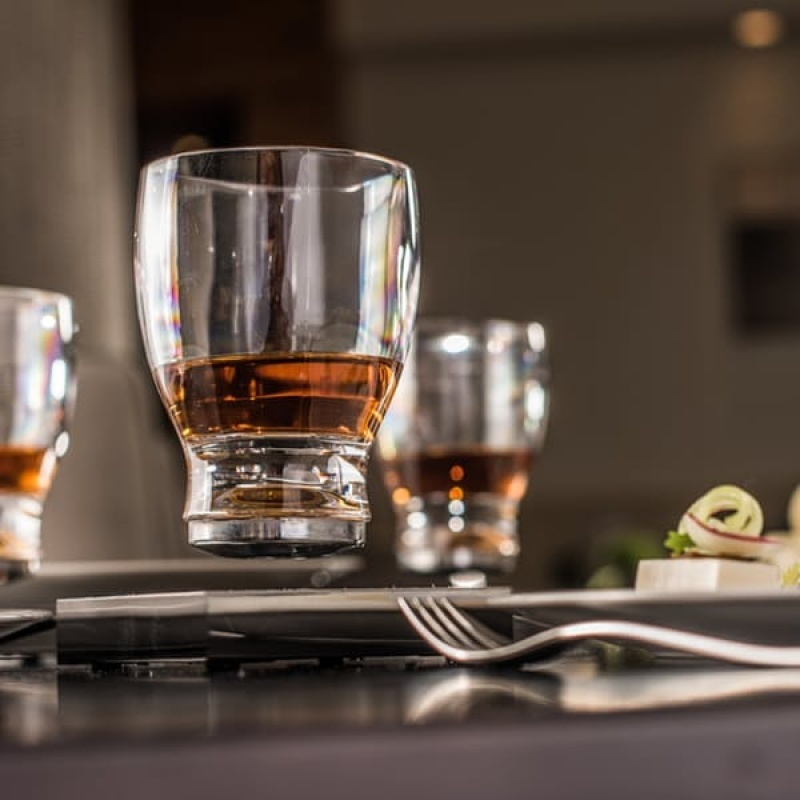whiskey: (147, 147, 426, 537)
